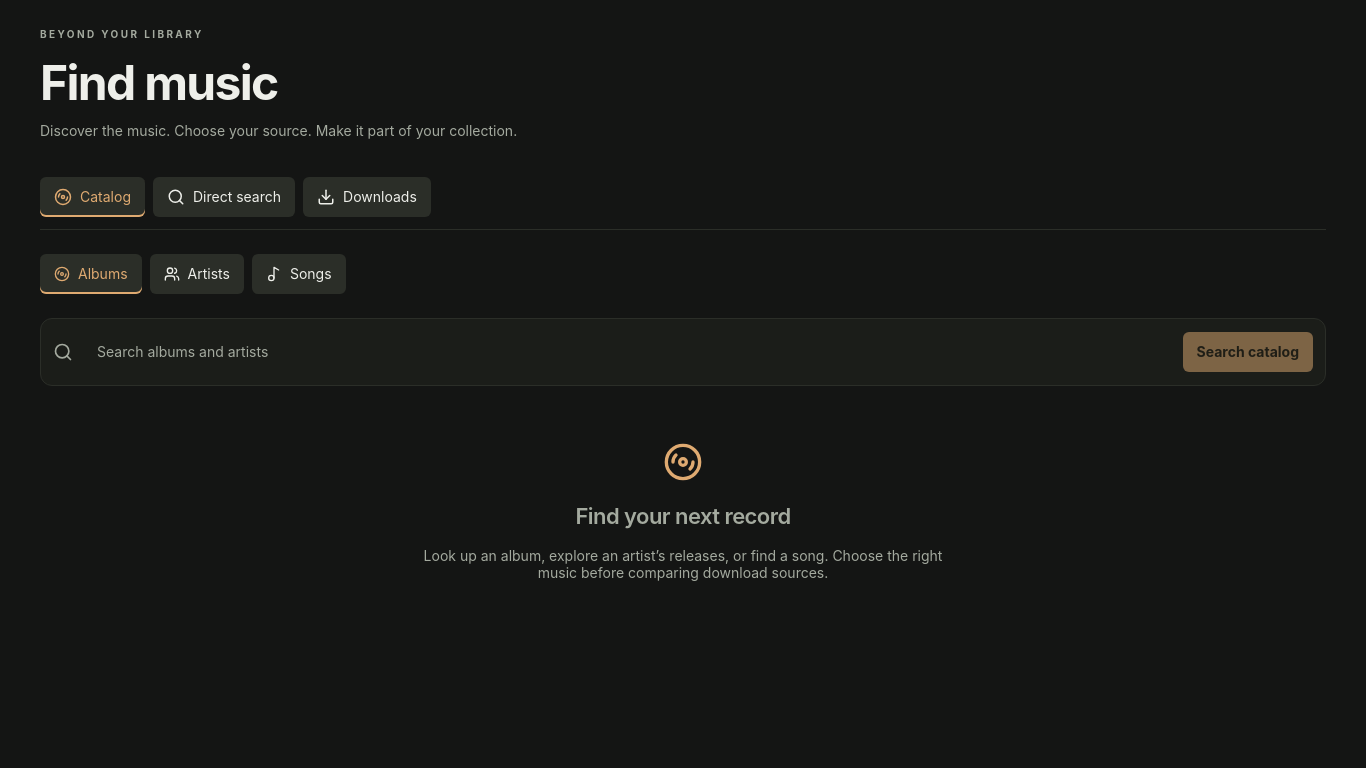
Test: offers catalog without download permission and only starts downloads on submit
Click the button "Songs".
click(299, 274)  # box [252,254,346,294]
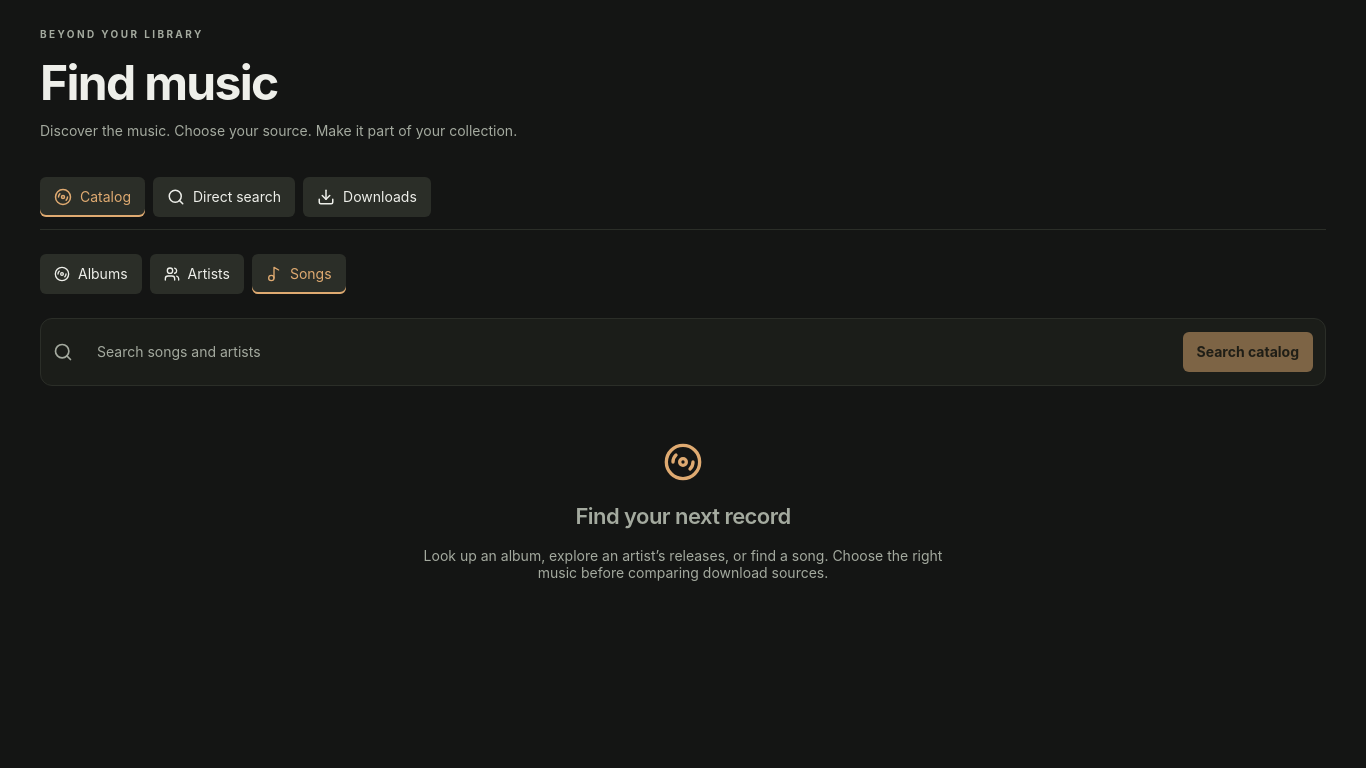
Type "Record" into the field named "Search catalog".
click(628, 352); type("Record")  # box [85,331,1170,373]
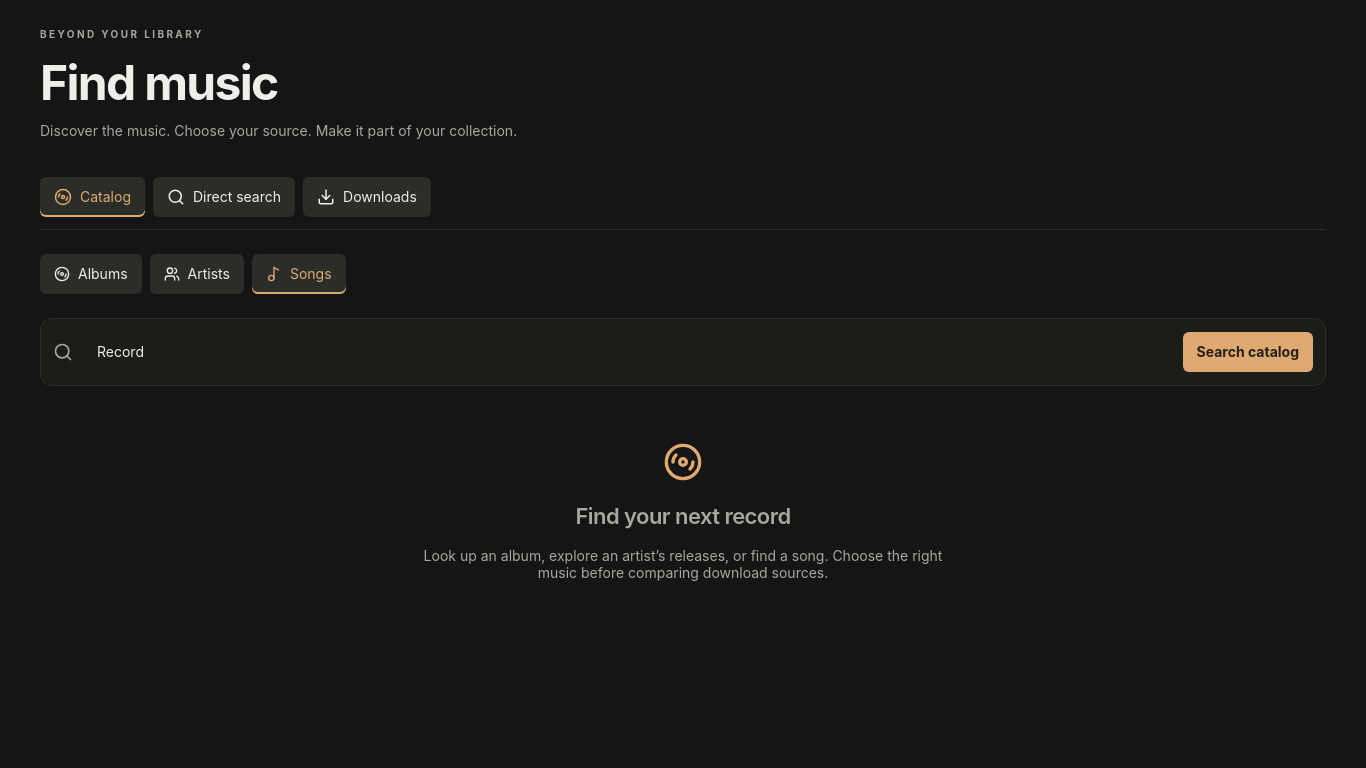
Click the button "Search catalog".
click(1248, 352)  # box [1182,332,1313,372]
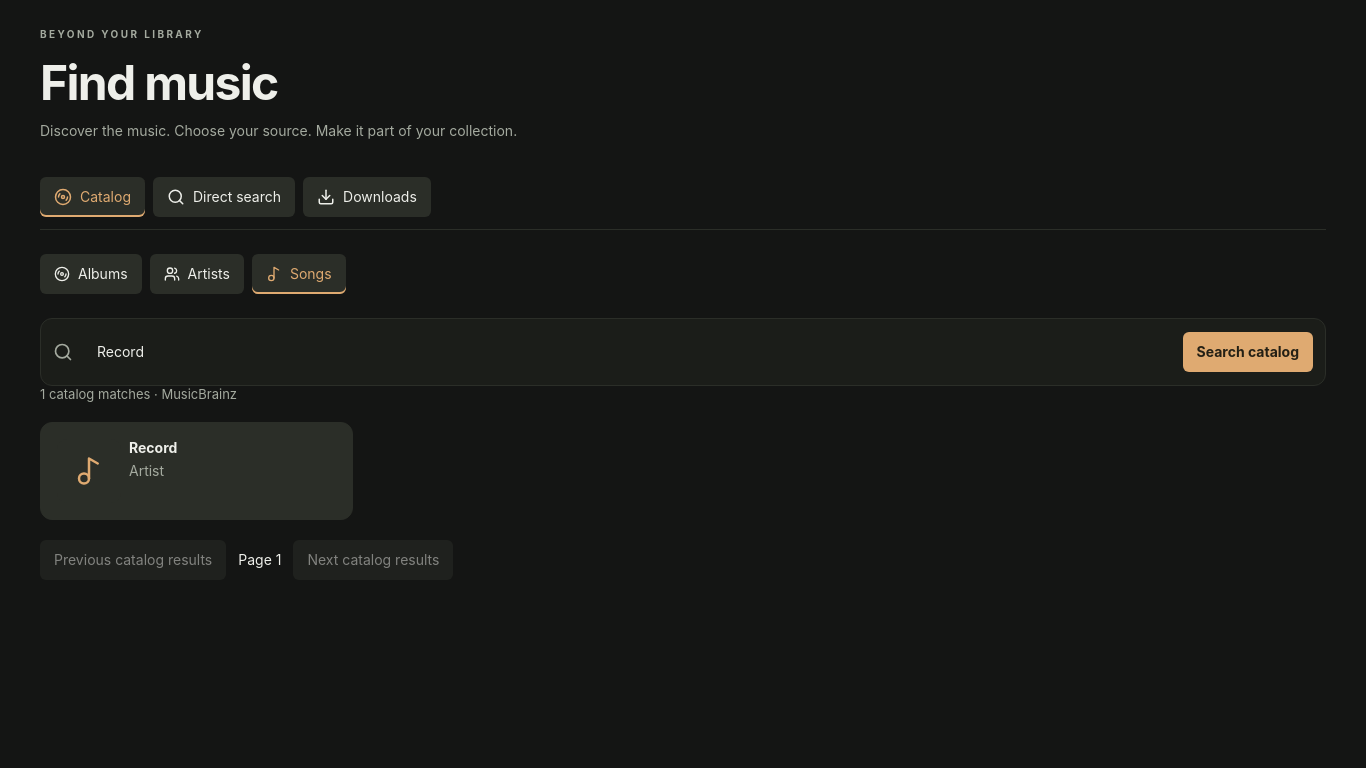
Click the button "Record Artist".
click(89, 471)  # box [40,422,352,520]
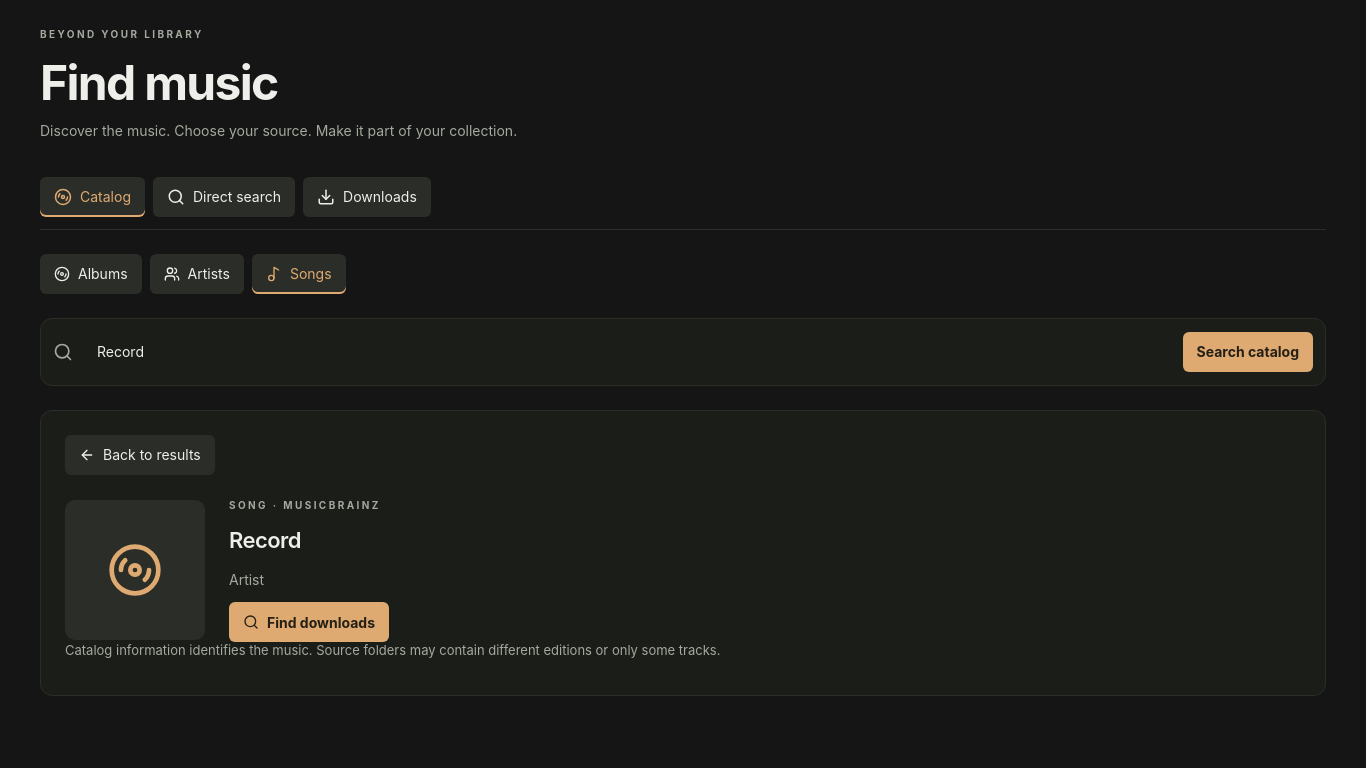
Click the button "Find downloads".
click(309, 622)  # box [229,602,389,642]
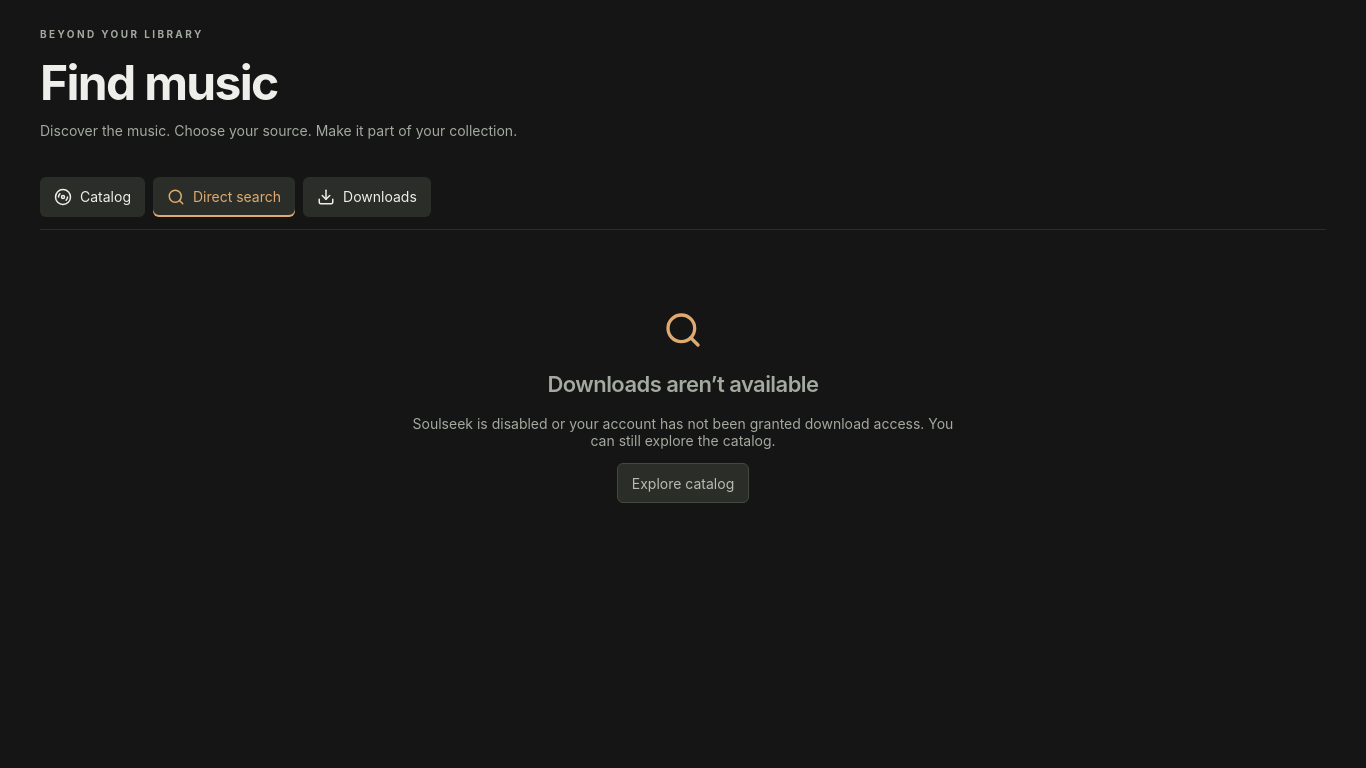
Expected: the heading "Downloads aren’t available" is shown, [548,371,818,397]
